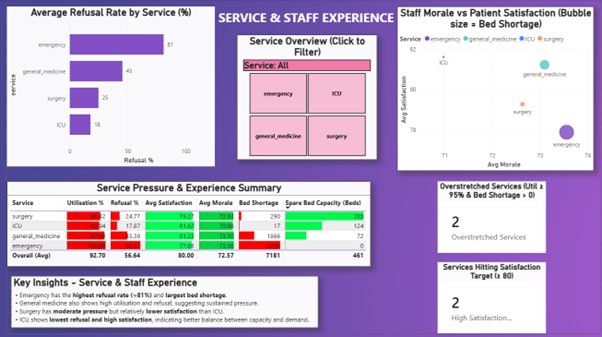

The dashboard page shown, as its layout file describes it:
{"tool":"powerbi","page":{"name":"Service & Staff Experience","canvas":[1280,720],"ordinal":1},"visuals":[{"type":"clusteredBarChart","title":"Average Refusal Rate by Service (%)","fields":{"Category":["ServiceCapacityStaff.service"],"Y":["ServiceCapacityStaff.Refusal %"]},"box":[0,14.9,449.1,344.6],"z":0},{"type":"scatterChart","title":"Staff Morale vs Patient Satisfaction (Bubble size = Bed Shortage)","fields":{"X":["ServiceCapacityStaff.Avg Morale"],"Y":["ServiceCapacityStaff.Avg Satisfaction"],"Series":["ServiceCapacityStaff.service"],"Size":["ServiceCapacityStaff.Bed Shortage"]},"box":[842.2,14.9,424.2,354.5],"z":1000},{"type":"tableEx","title":"Service Pressure & Experience Summary","fields":{"Values":["ServiceCapacityStaff.service","ServiceCapacityStaff.Utilisation %","ServiceCapacityStaff.Refusal %","ServiceCapacityStaff.Avg Satisfaction","ServiceCapacityStaff.Avg Morale","ServiceCapacityStaff.Bed Shortage","ServiceCapacityStaff.Spare Bed Capacity (Beds)"]},"box":[0,391.8,784.9,184.1],"z":2000},{"type":"textbox","title":"Key Insights - Service & Staff Experience","box":[8.7,595.9,663,112],"z":3000},{"type":"slicer","title":"Service Overview (Click to Filter)","fields":{"Values":["ServiceCapacityStaff.service"]},"box":[496.3,75.9,302.3,269.9],"z":4000},{"type":"textbox","box":[449.1,14.9,393.1,150.5],"z":4001},{"type":"cardVisual","title":"Overstretched Services (Util ≥ 95% & Bed Shortage > 0)","fields":{"Data":["ServiceCapacityStaff.Overstretched Services"]},"box":[929.2,391.8,233.9,154.3],"z":4002},{"type":"cardVisual","title":"Services Hitting Satisfaction Target (≥ 80)","fields":{"Data":["ServiceCapacityStaff.High Satisfaction Services"]},"box":[929.2,566,233.9,154.3],"z":4003}]}

Visuals, with their boxes in screenshot pixels (x1, y1, x2, y2), scaled from the page's 1280x720 canvas onto the 602x337 screenshot:
"Average Refusal Rate by Service (%)" clusteredBarChart: locate(0, 7, 211, 168)
"Staff Morale vs Patient Satisfaction (Bubble size = Bed Shortage)" scatterChart: locate(396, 7, 596, 173)
"Service Pressure & Experience Summary" tableEx: locate(0, 183, 369, 270)
"Key Insights - Service & Staff Experience" textbox: locate(4, 279, 316, 331)
"Service Overview (Click to Filter)" slicer: locate(233, 36, 376, 162)
textbox: locate(211, 7, 396, 77)
"Overstretched Services (Util ≥ 95% & Bed Shortage > 0)" cardVisual: locate(437, 183, 547, 256)
"Services Hitting Satisfaction Target (≥ 80)" cardVisual: locate(437, 265, 547, 336)
